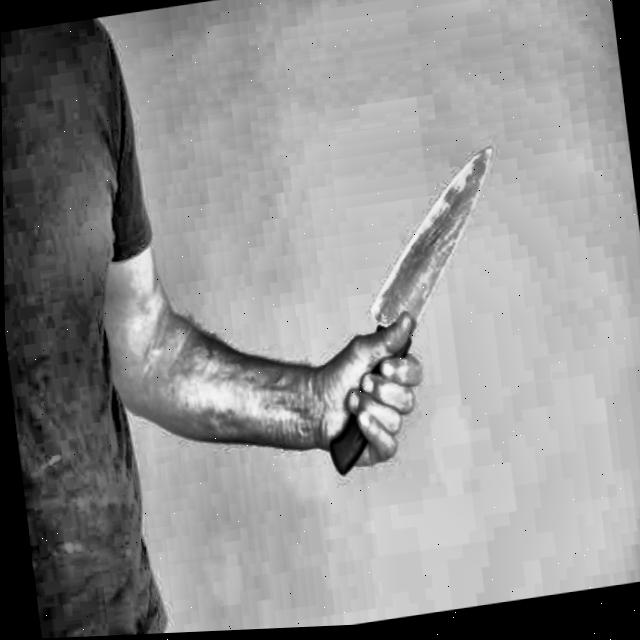pisau: (282, 132, 539, 505)
